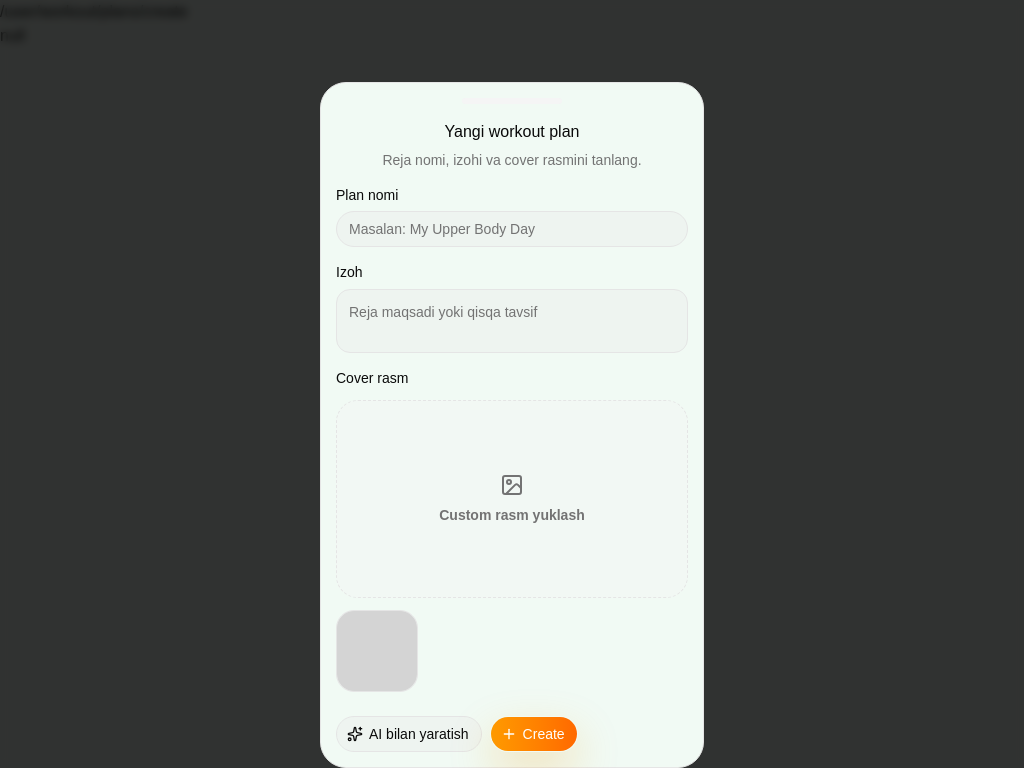
CreateWorkoutPlanPage › shows an inline equipment validation error before AI generation
This screenshot has width=1024, height=768.
Type "Equipment validation" into the field labelled "Plan nomi" at (512, 230), box top-left (336, 212), bottom-right (688, 248)
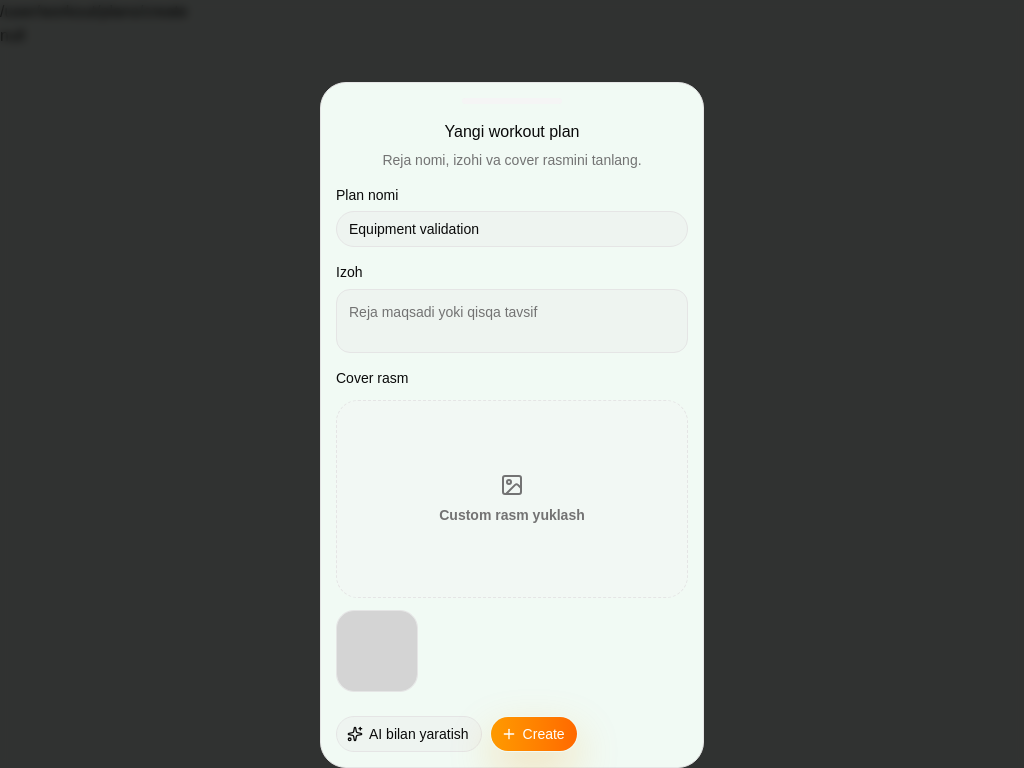
Click the button "AI bilan yaratish" at (409, 734), box top-left (336, 716), bottom-right (482, 752)
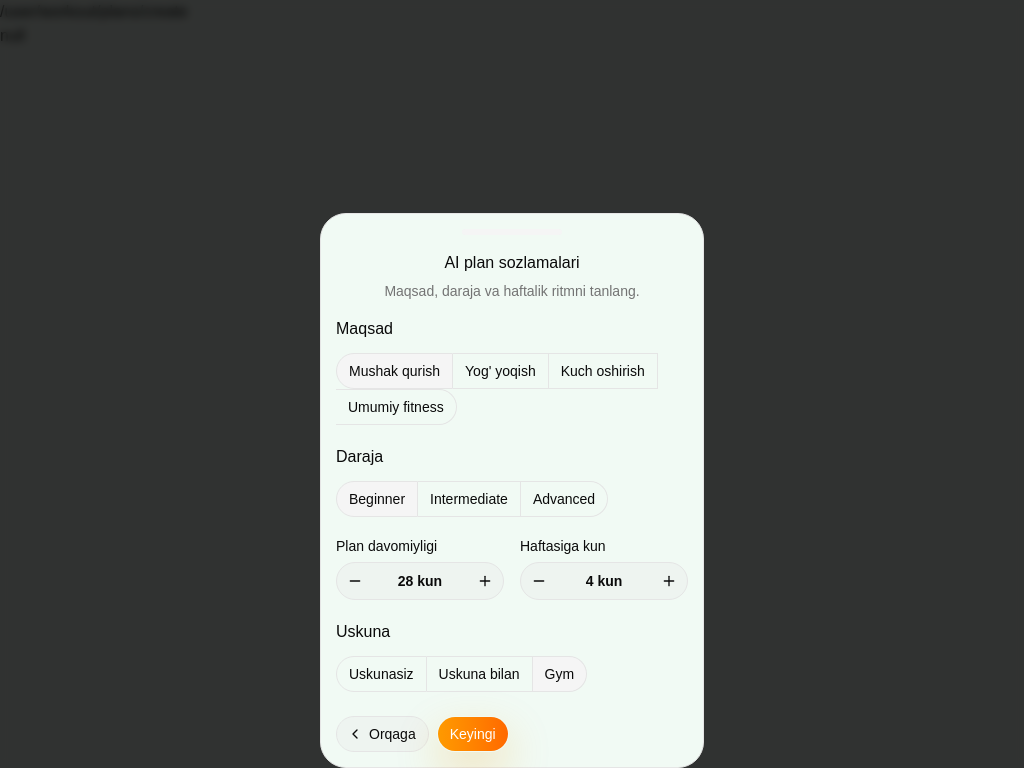
Click the button "Keyingi" at (473, 734), box top-left (437, 716), bottom-right (509, 752)
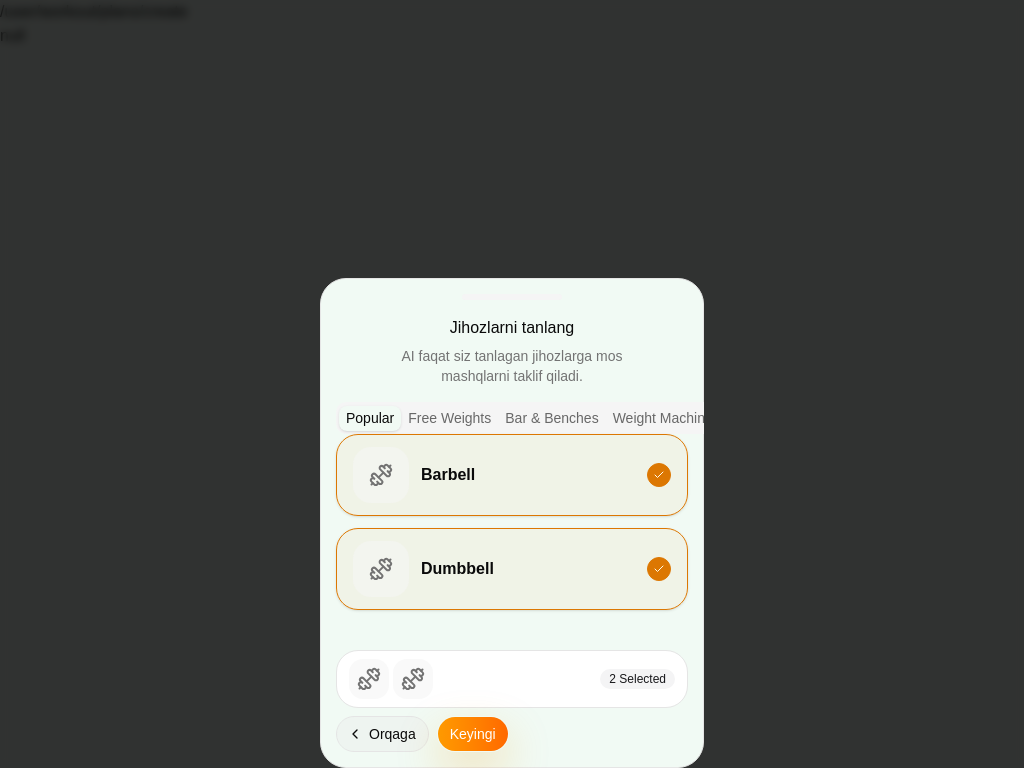
Click the button "Barbell" at (381, 475), box top-left (336, 434), bottom-right (688, 516)
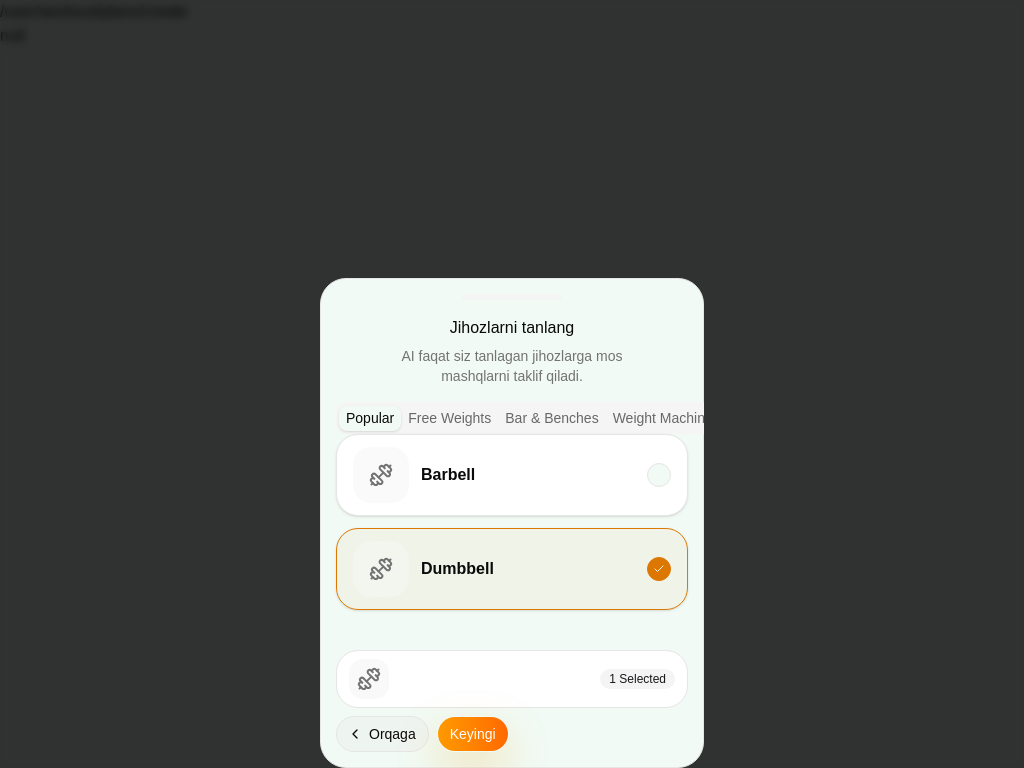
Click the button "Dumbbell" at (381, 569), box top-left (336, 528), bottom-right (688, 610)
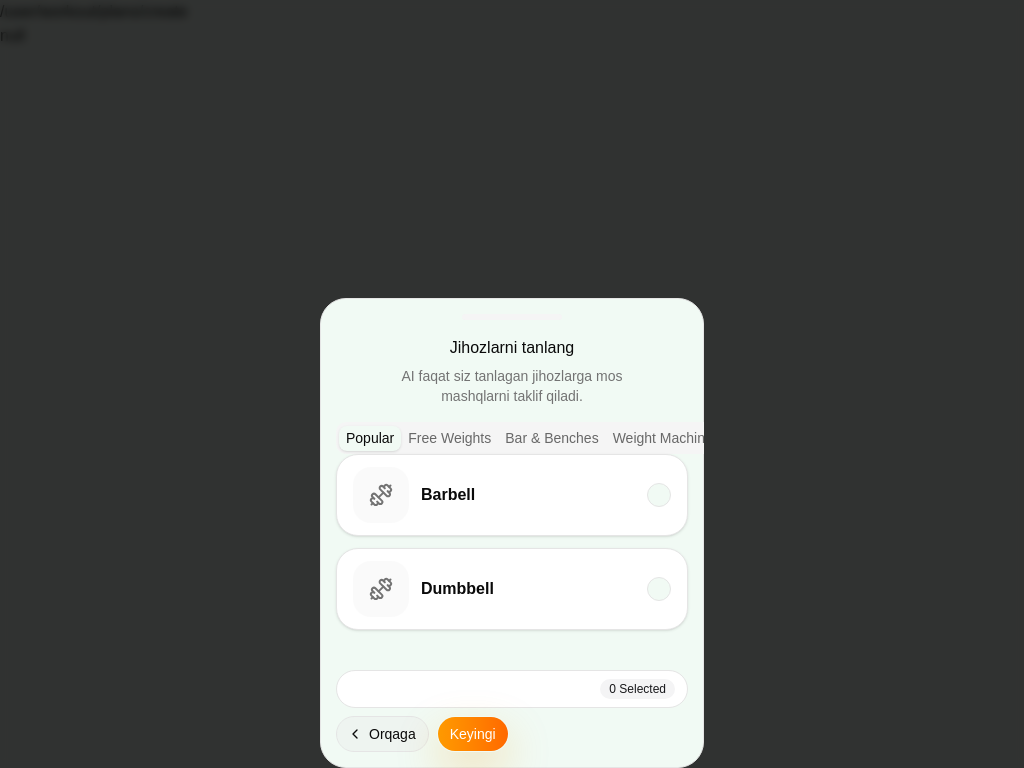
Click the button "Keyingi" at (473, 734), box top-left (437, 716), bottom-right (509, 752)
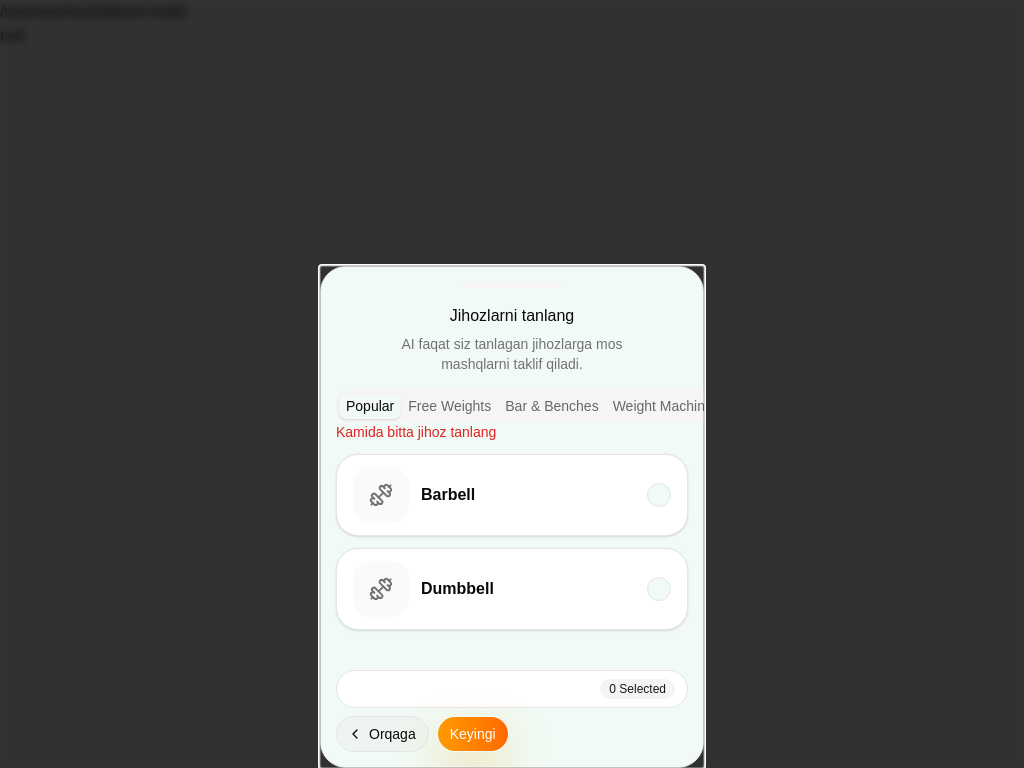
expect the text "Kamida bitta jihoz tanlang" is shown: met, box top-left (336, 424), bottom-right (496, 440)
